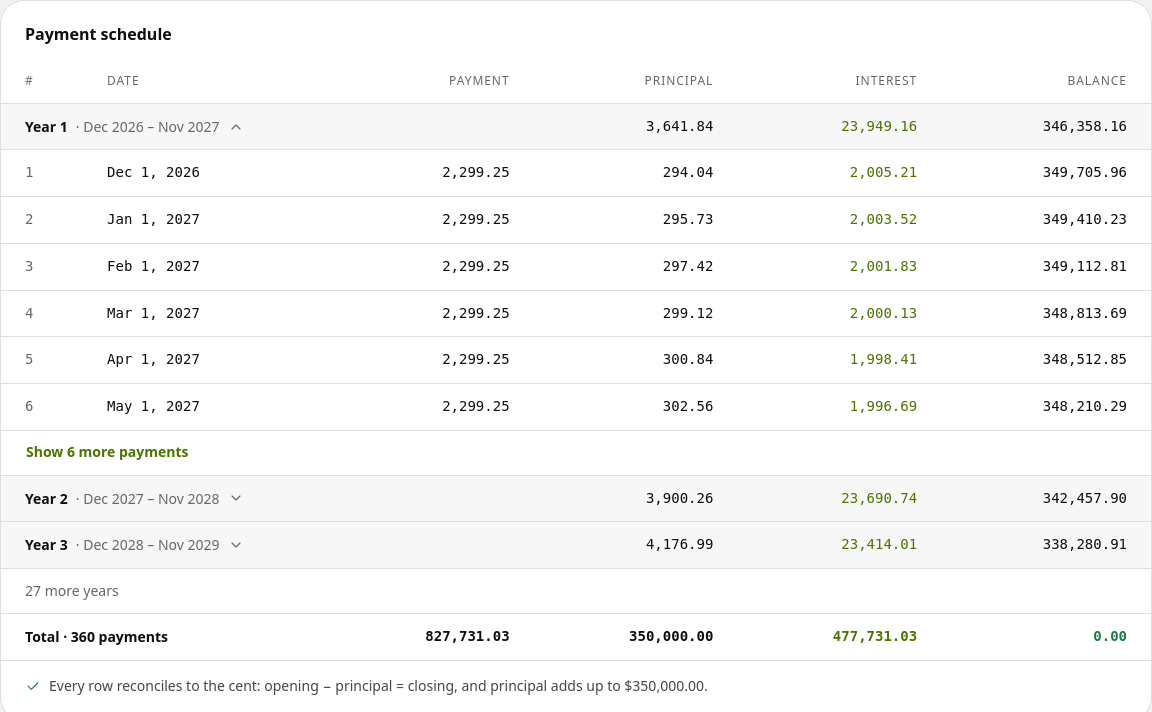
Test: ScheduleCard — design scenario table › reveals the rest of year 1 and moves focus to the first new payment
The image size is (1152, 712).
Click the button "Show 6 more payments" at (107, 453), box top-left (25, 431), bottom-right (190, 475)
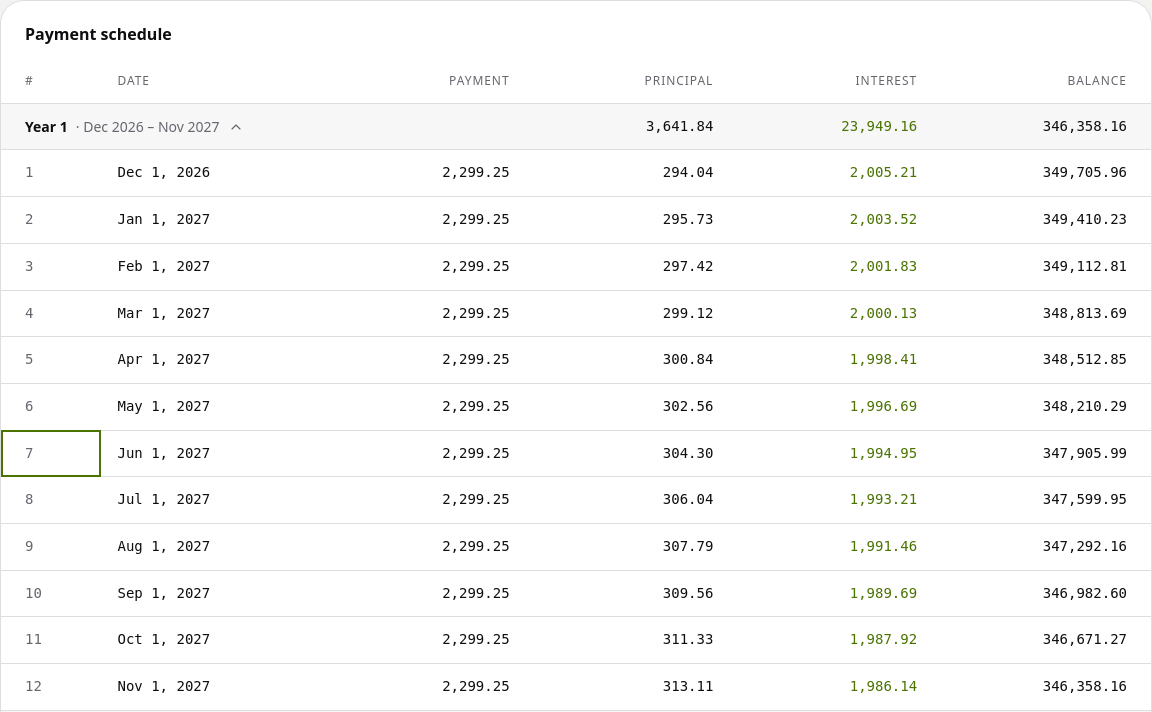
Expected: the button "Show 6 more payments" is gone
Expected: the column heading "7" is shown, top-left (1, 430), bottom-right (102, 477)
